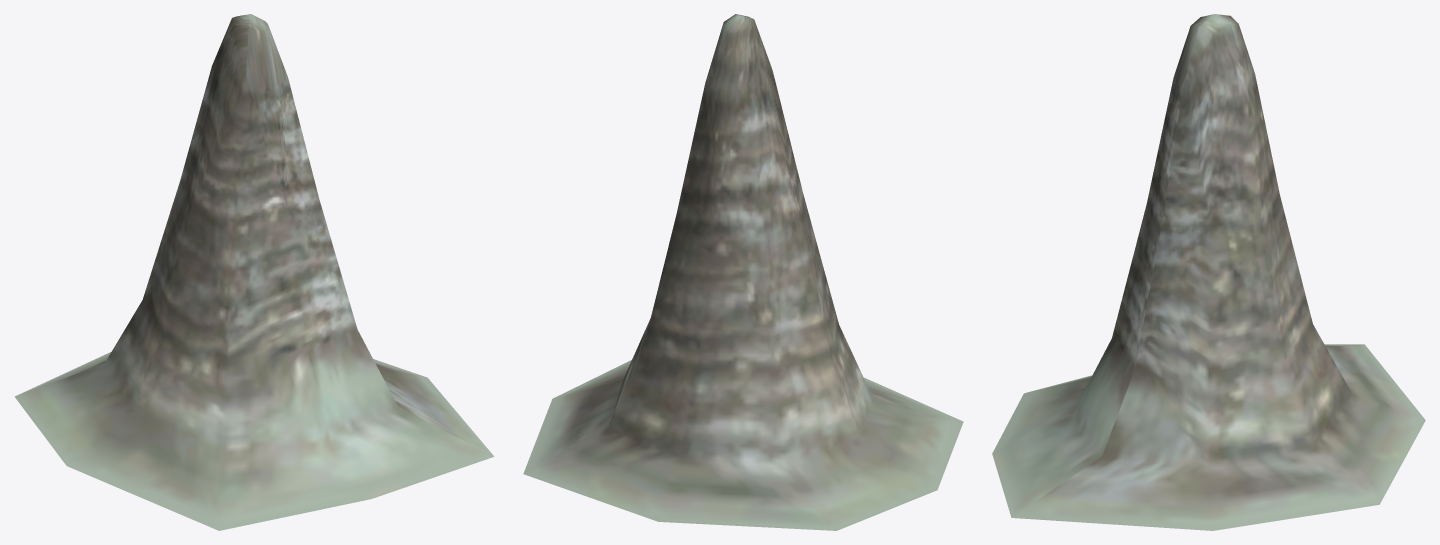
Rendered from TROLLHOLE02_PS-MAINSTALAG39.fbx.
3 views of the same model, side by side, from view 1: azimuth 30°, elevation 25°; view 2: azimuth 150°, elevation 25°; view 3: azimuth 270°, elevation 25° (orthographic). The views are drawn at different scales.
Visible parts, largest first — view 1: TROLLHOLE02_PS-MAINSTALAG39; view 2: TROLLHOLE02_PS-MAINSTALAG39; view 3: TROLLHOLE02_PS-MAINSTALAG39.
Boxes of the visible parts, left/top/right/bottom form: TROLLHOLE02_PS-MAINSTALAG39: left=14, top=14, right=494, bottom=530; TROLLHOLE02_PS-MAINSTALAG39: left=523, top=14, right=963, bottom=530; TROLLHOLE02_PS-MAINSTALAG39: left=992, top=14, right=1425, bottom=530.
Bounding box in the file's own units: 26305 × 29177 × 25963.
Materials: 1 (1 with a texture image).
